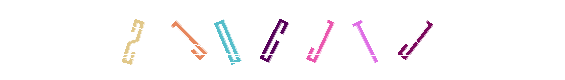G: (242, 0, 322, 80)
J: (151, 0, 231, 80), (279, 0, 359, 80), (301, 0, 381, 80)
O: (187, 0, 267, 80)
T: (292, 0, 372, 80)
Z: (96, 0, 176, 80)
